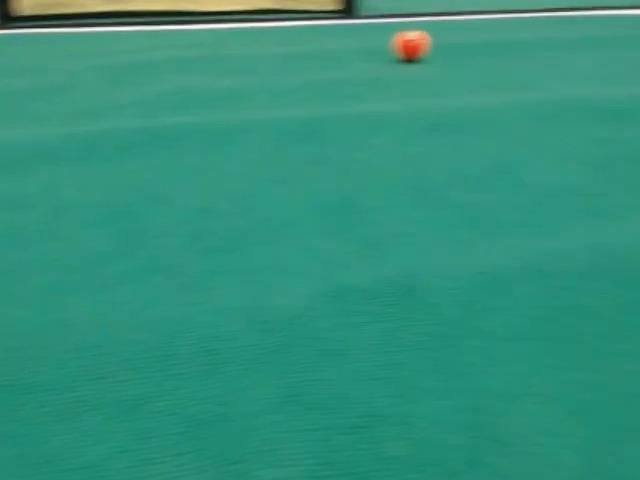Ball: (390, 30, 430, 62)
